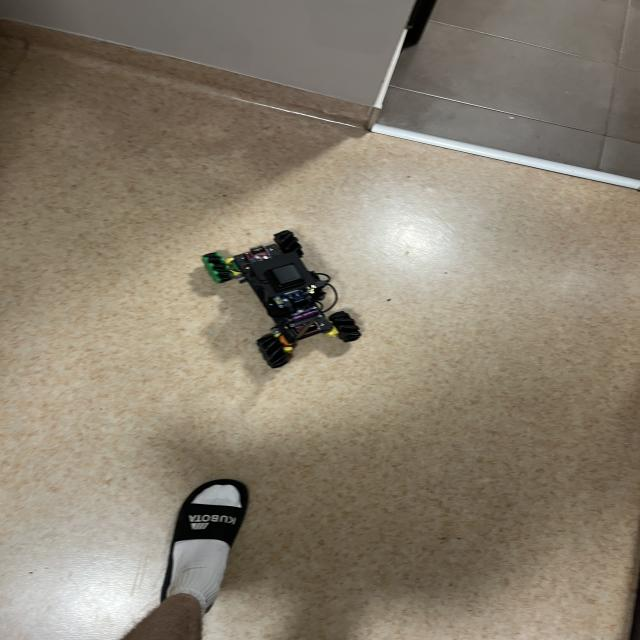robot: (202, 230, 360, 368)
